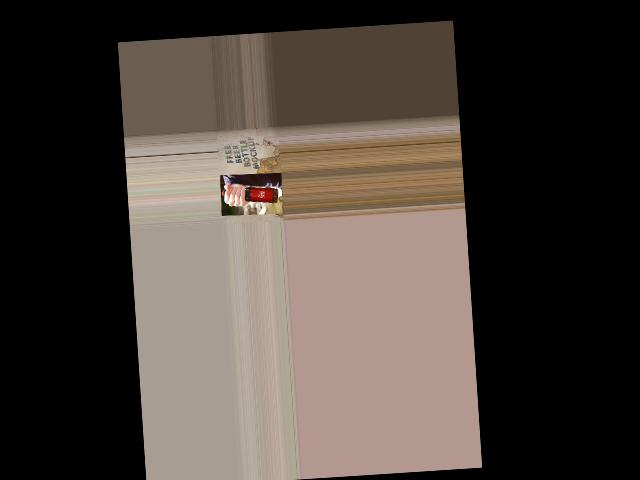beer: (222, 185, 279, 206)
